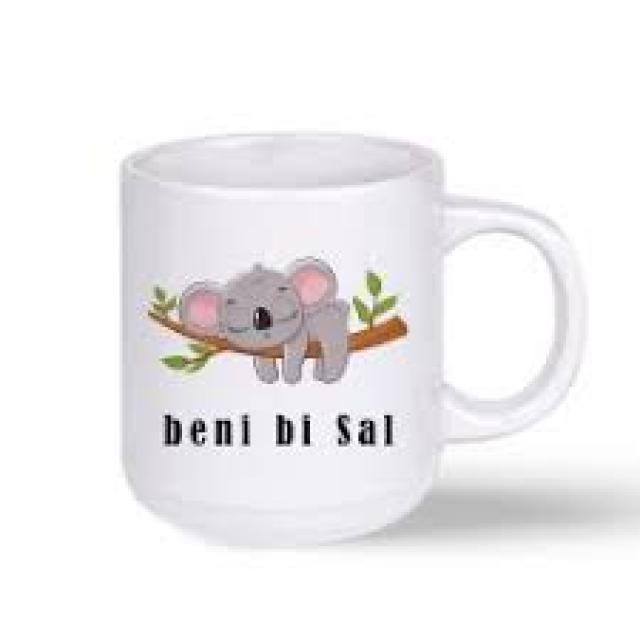taza: (118, 126, 586, 547)
